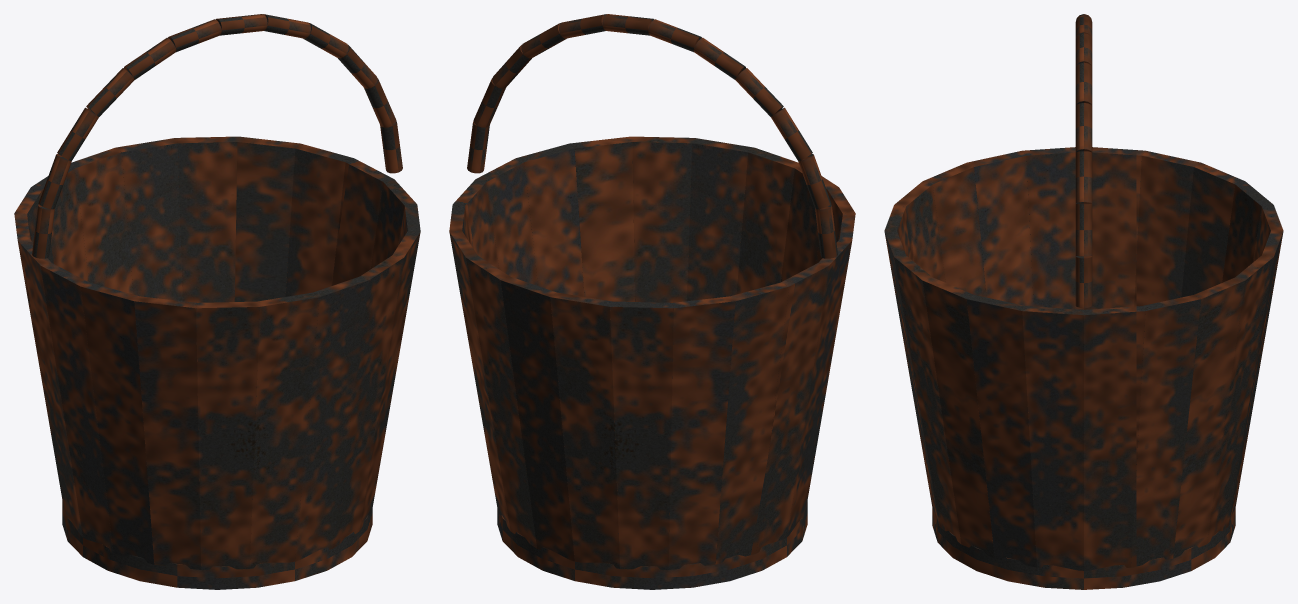
Rendered from SM_OpenMaintenanceBucket_c047ef796e.fbx.
The picture shows the model from 3 angles, left to right: view 1: azimuth 30°, elevation 25°; view 2: azimuth 150°, elevation 25°; view 3: azimuth 270°, elevation 25°; orthographic projection. The views are drawn at different scales.
Parts seen in each view (by area): view 1: SM_OpenMaintenanceBucket_c047ef796e; view 2: SM_OpenMaintenanceBucket_c047ef796e; view 3: SM_OpenMaintenanceBucket_c047ef796e.
Part boxes in pixels (x1,y1,x2,y2): SM_OpenMaintenanceBucket_c047ef796e: (14, 14, 420, 589); SM_OpenMaintenanceBucket_c047ef796e: (449, 14, 855, 589); SM_OpenMaintenanceBucket_c047ef796e: (884, 14, 1283, 589).
Size of what is drawn, in the model's own units: 39.58 by 37.99 by 51.79.
Materials: 2 (1 with a texture image).
